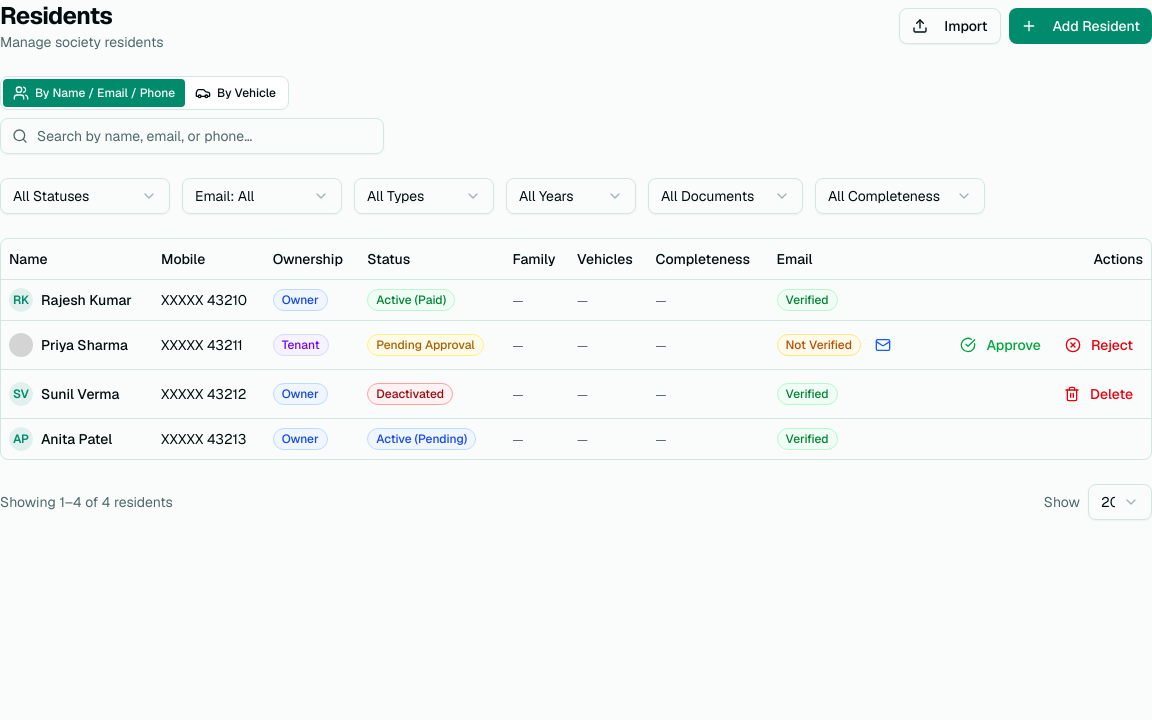
Test: AdminResidentsPage › enables reject button when reason is provided
Click the button "Reject": (1099, 344) [1055,328,1143,360]
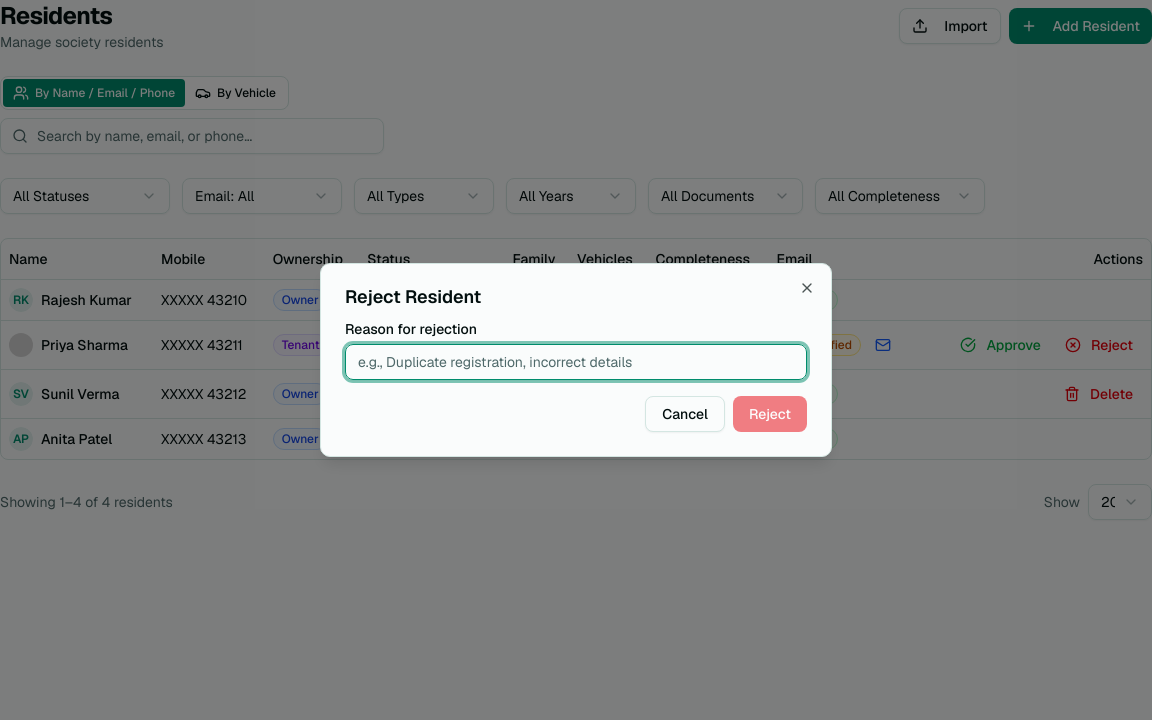
Expected: the heading "Reject Resident" is shown, [345,285,481,308]
In the field with placeholder "e.g., Duplicate registration, incorrect details": (576, 362) [345,344,807,380], type "Not a valid resident"
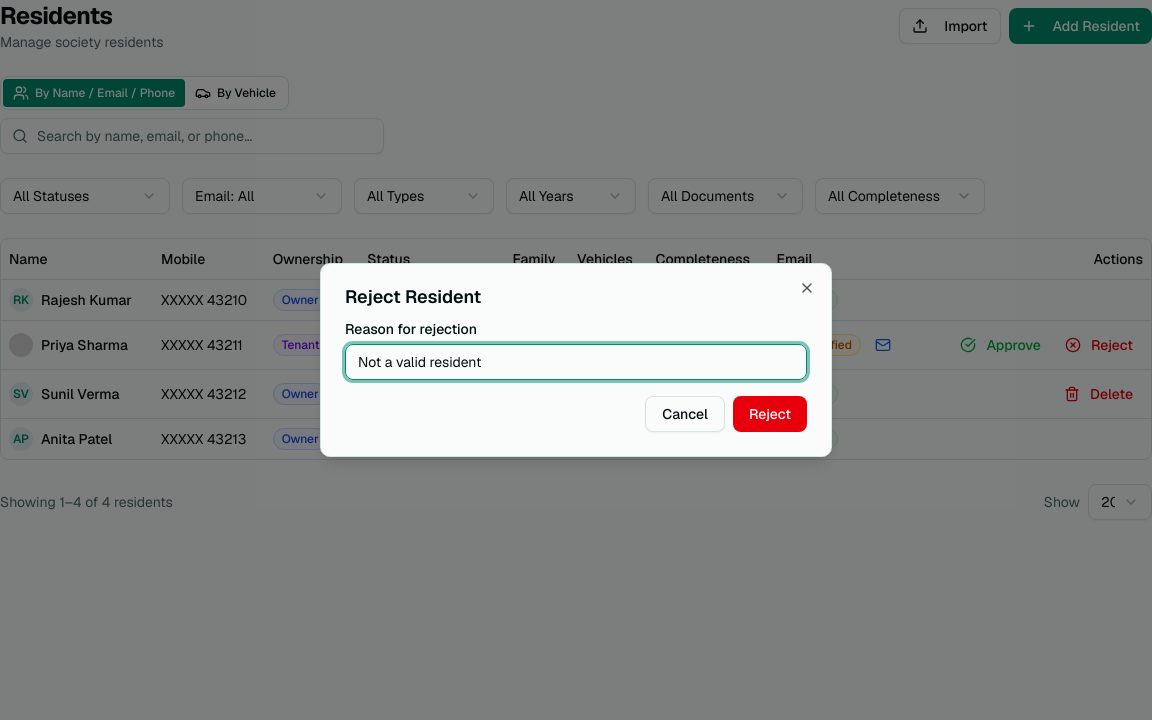
Expected: the button "Reject" is enabled, [733,396,807,432]
